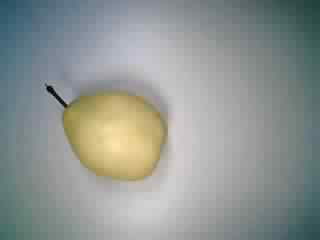pear: (39, 68, 170, 197)
